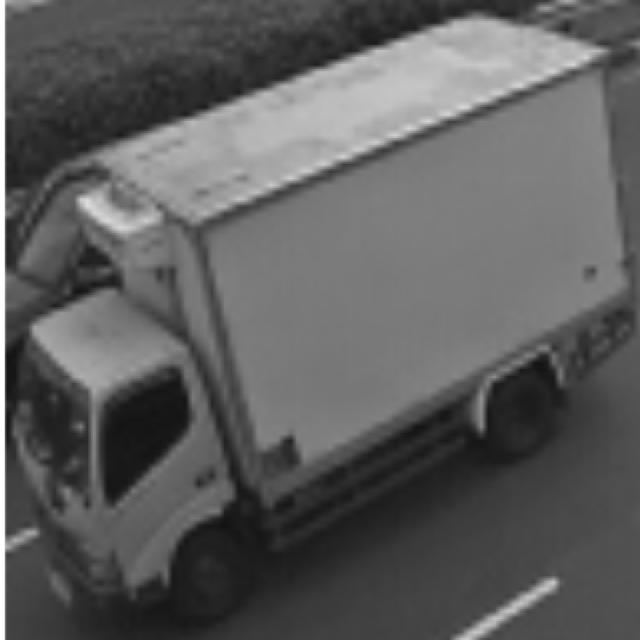truck: (3, 284, 267, 629)
